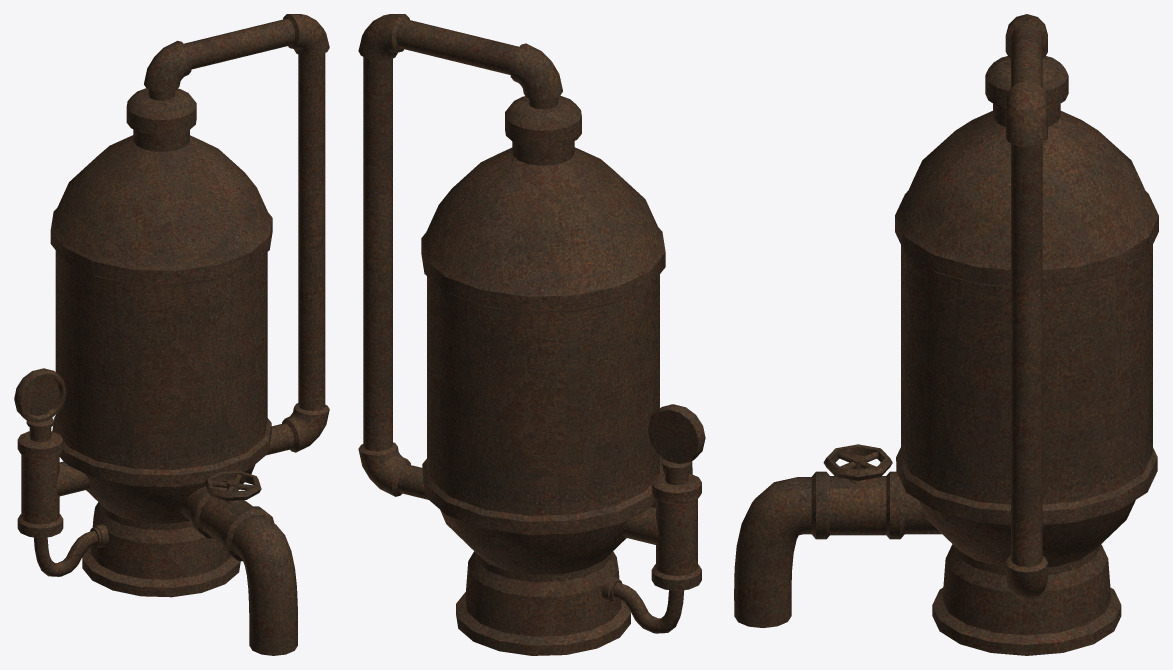
The model's file is distillery_mx_1.obj.
3 renders of one model, left to right at view 1: azimuth 30°, elevation 25°; view 2: azimuth 150°, elevation 25°; view 3: azimuth 270°, elevation 25°, orthographic. The views are drawn at different scales.
Visible parts, largest first — view 1: distillery_mx_1; view 2: distillery_mx_1; view 3: distillery_mx_1.
Part boxes in pixels (x1,y1,x2,y2): distillery_mx_1: (14,14,329,655); distillery_mx_1: (358,14,705,655); distillery_mx_1: (734,14,1158,655).
Size of the model in its own units: 2.22 by 3.52 by 2.22.
